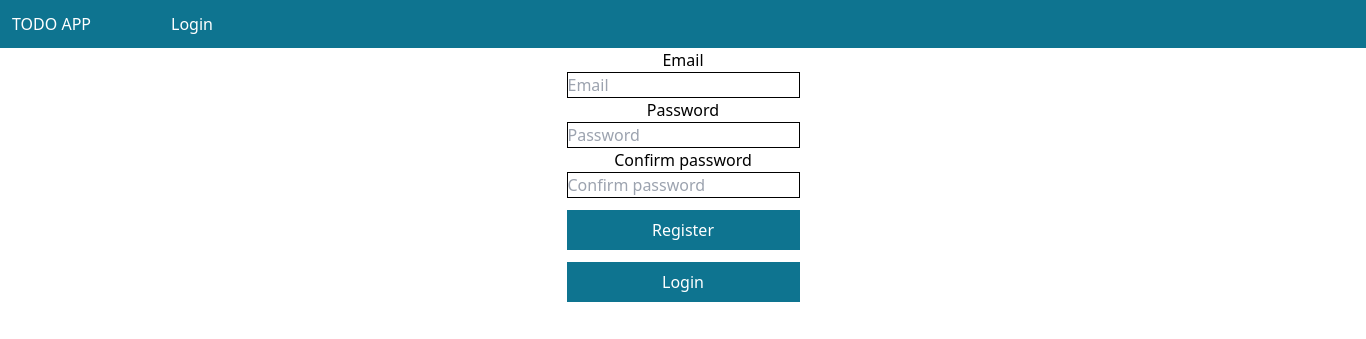
register error handling
// error handling
Type "test@o2.pl" into the field with placeholder "Email" at coordinates (683, 85), box [566,72,800,98]
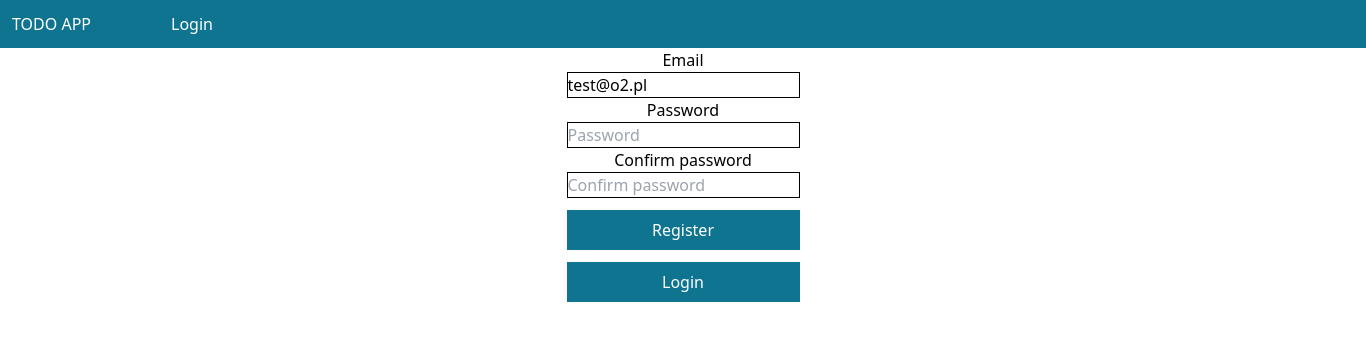
Type "123456" into the password field with placeholder "Password" at coordinates (683, 135), box [566,122,800,148]
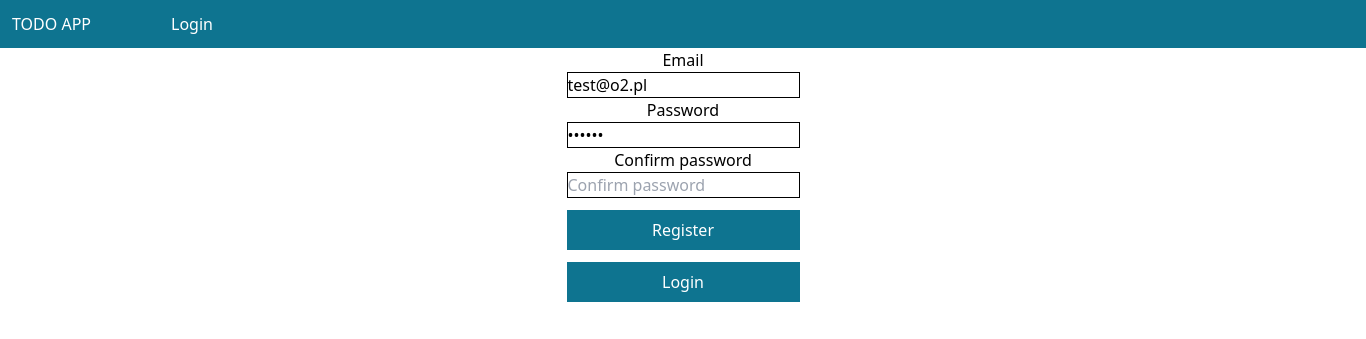
Type "123" into the password field with placeholder "Confirm password" at coordinates (683, 185), box [566,172,800,198]
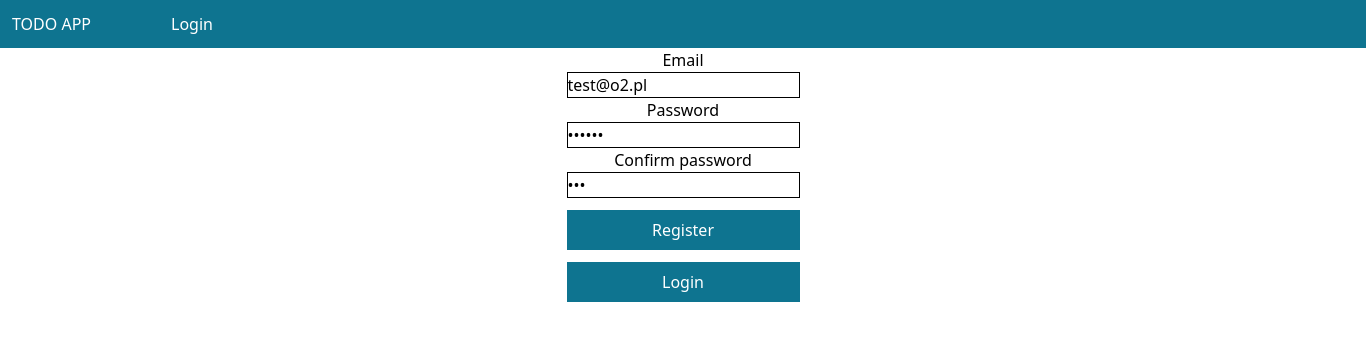
Click the button showing "Register" at coordinates (683, 230), box [566,210,800,250]
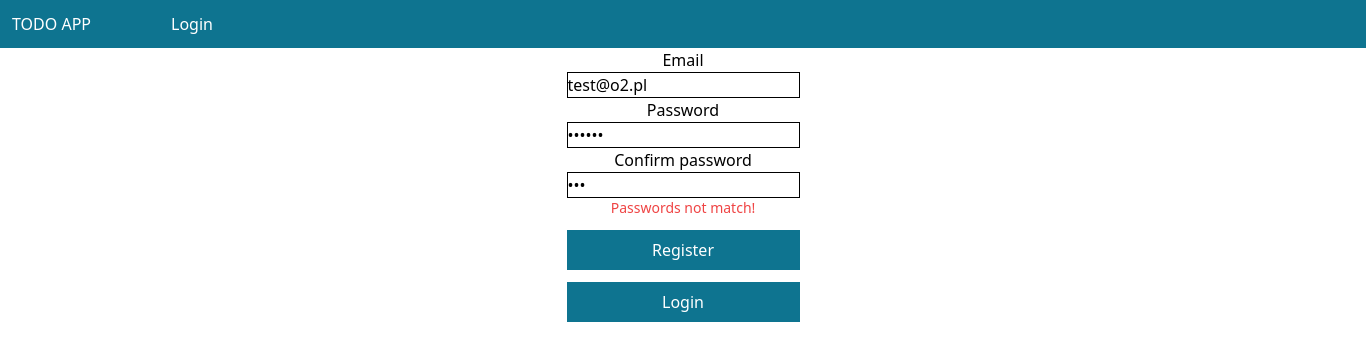
Expected: the text "Passwords not match!" is shown, [611,198,755,218]
